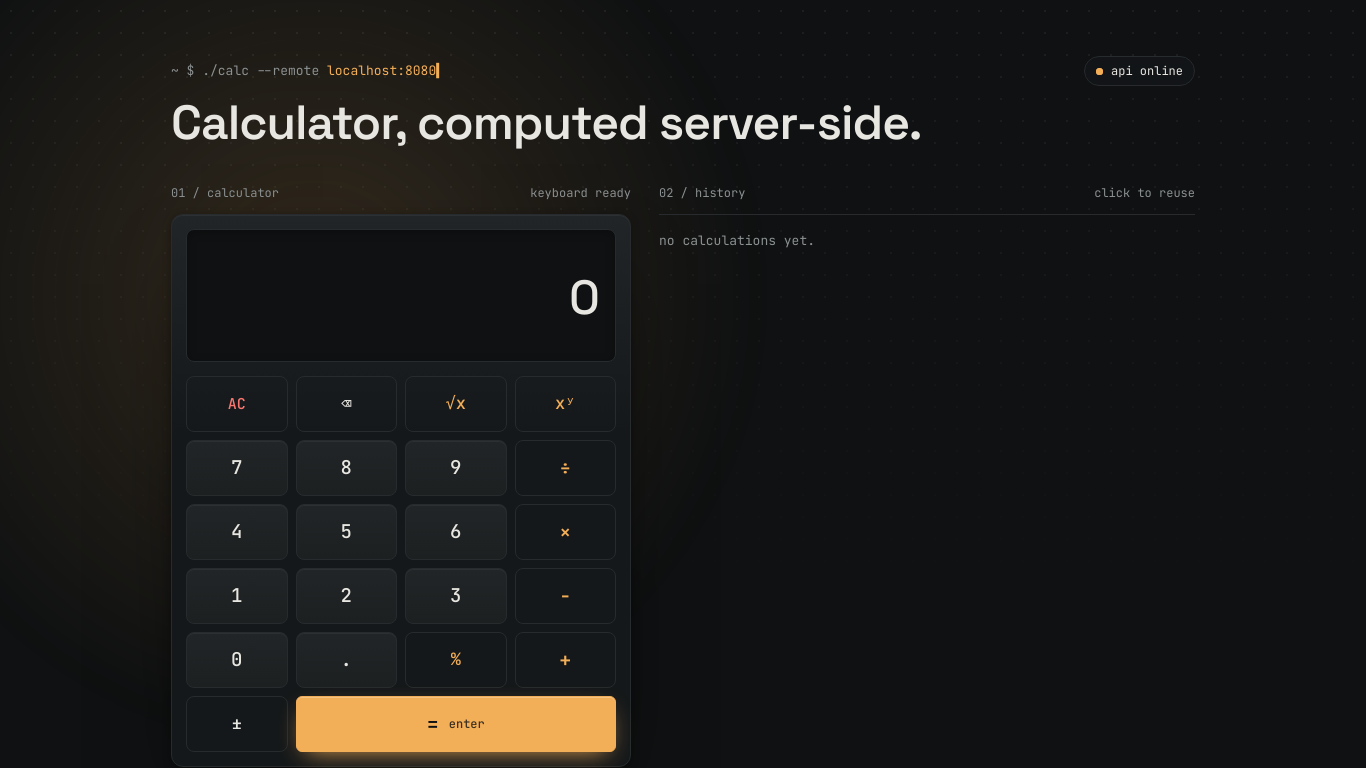
App › computes a calculation with the keypad and adds it to the history
Click the button "7" at (237, 468), box [186,440,288,496]
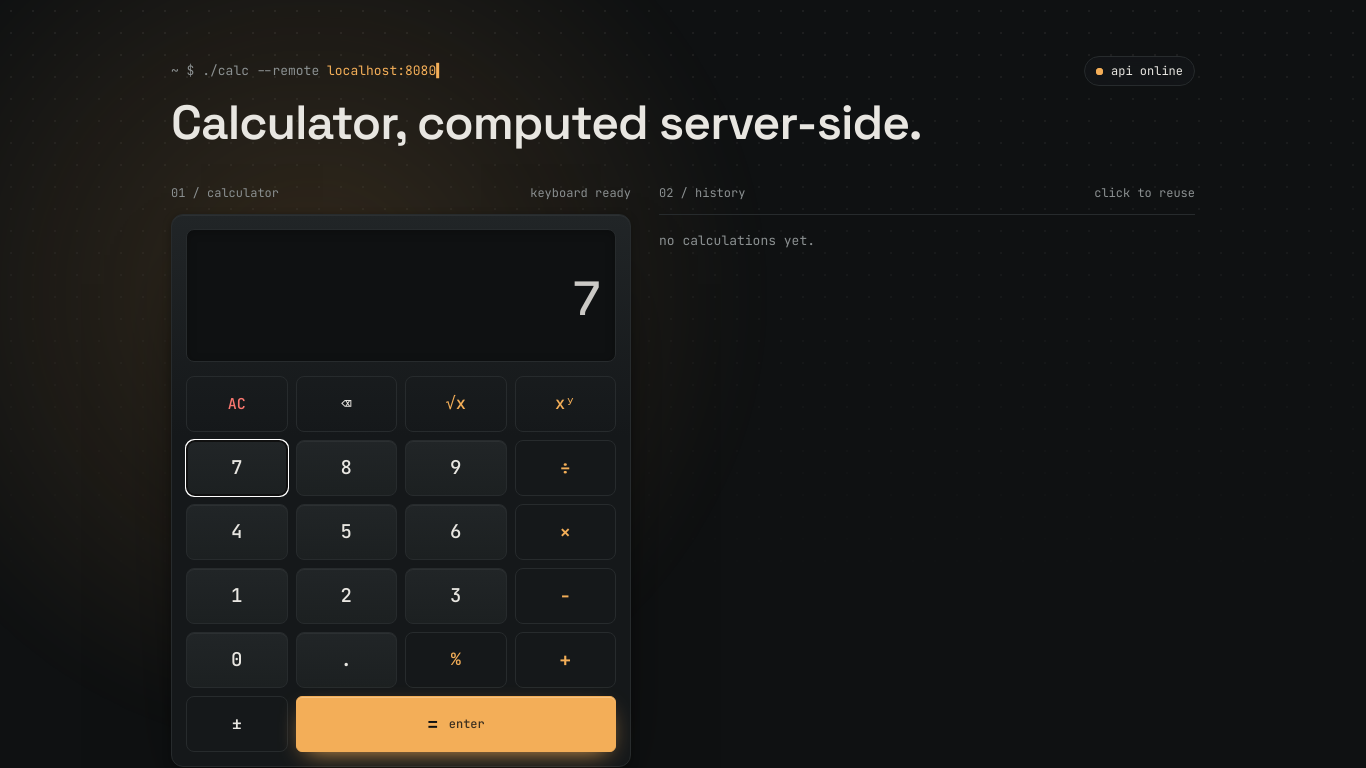
Click the button named "add" at (565, 660), box [514,632,616,688]
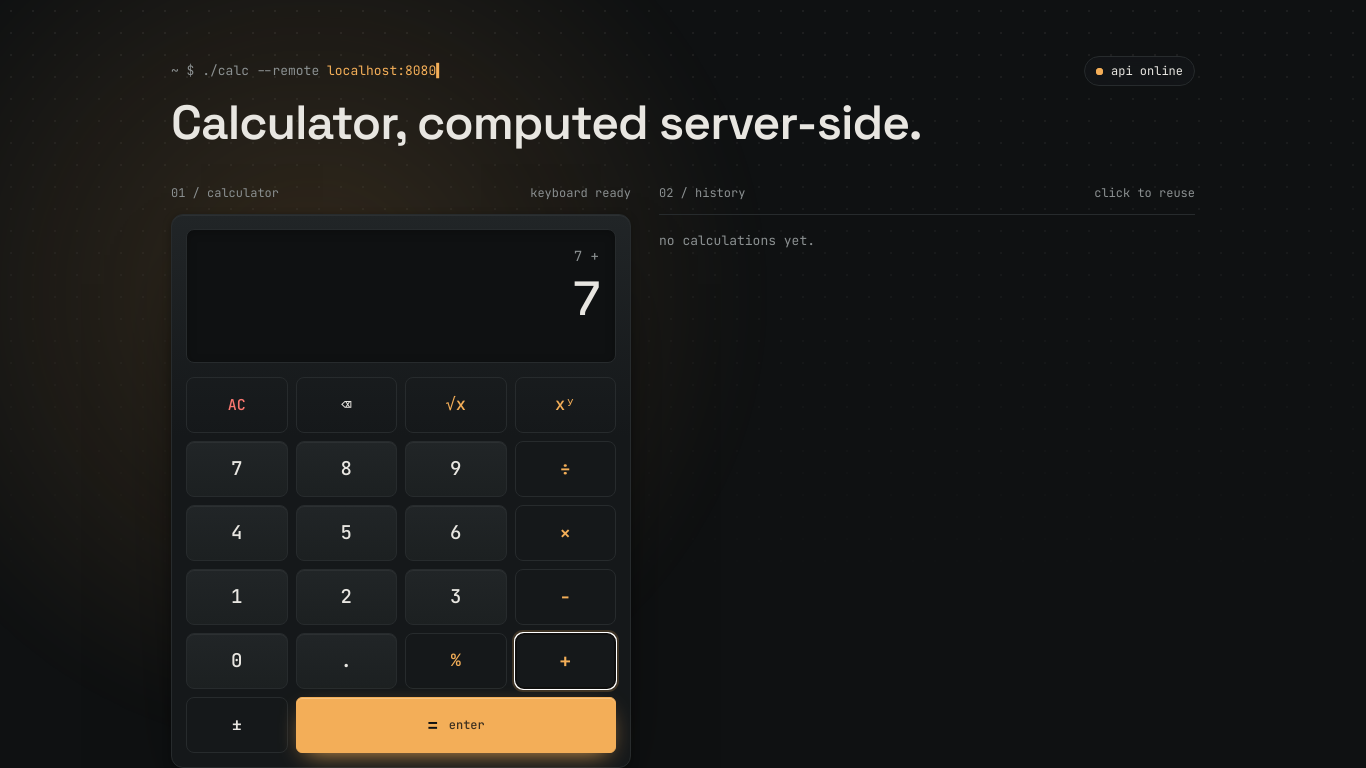
Click the button "2" at (346, 597), box [296,569,397,625]
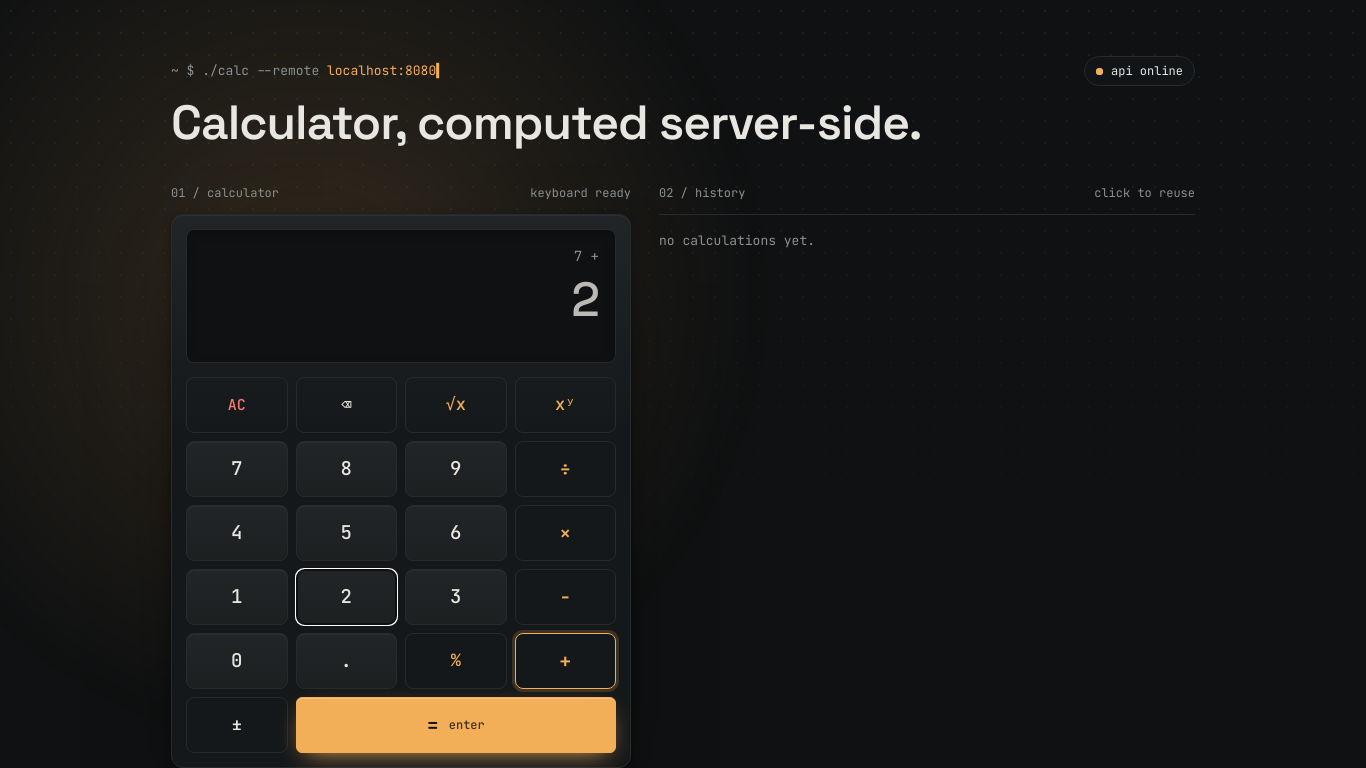
Click the button with aria-label "equals" at (456, 725), box [296,697,616,753]
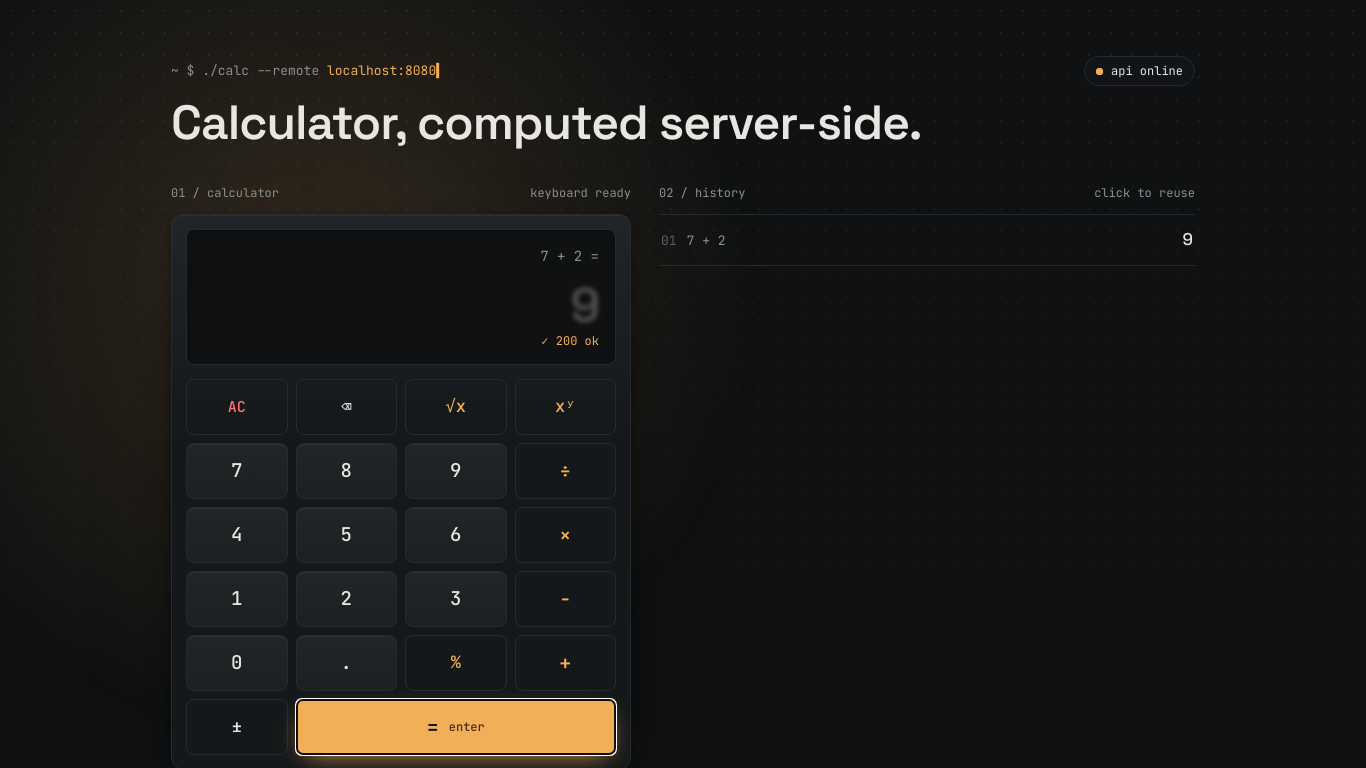
expect the text "7 + 2 =" is shown: met, box [540,246,599,267]
expect the text "✓ 200 ok" is shown: met, box [541,332,599,350]
expect the button "01 7 + 2 9" is shown: met, box [659,215,1195,266]
